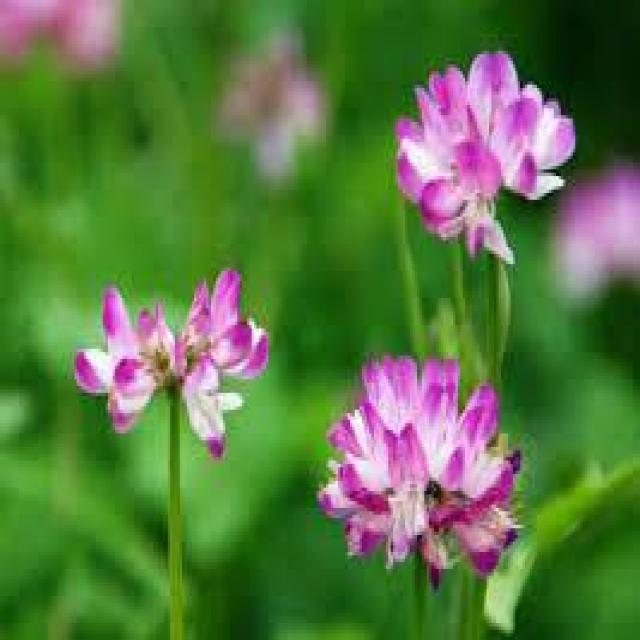organic waste: (308, 340, 526, 578), (386, 54, 578, 264), (81, 270, 262, 428)
